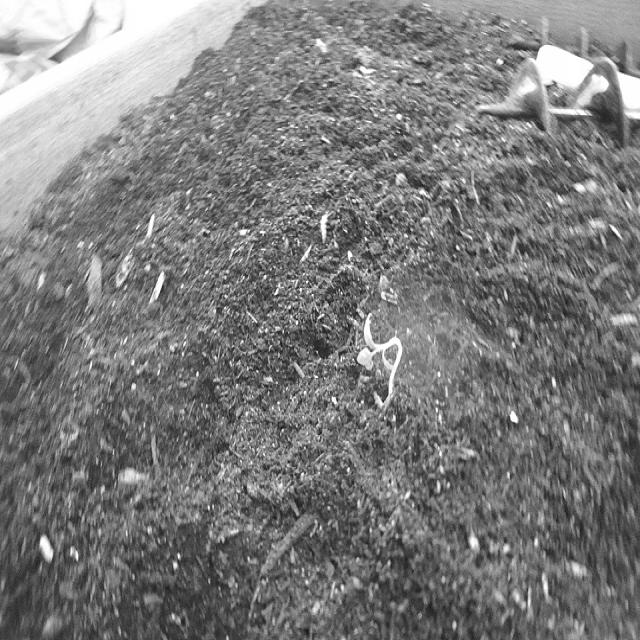Unhealthy: (346, 287, 413, 426)
